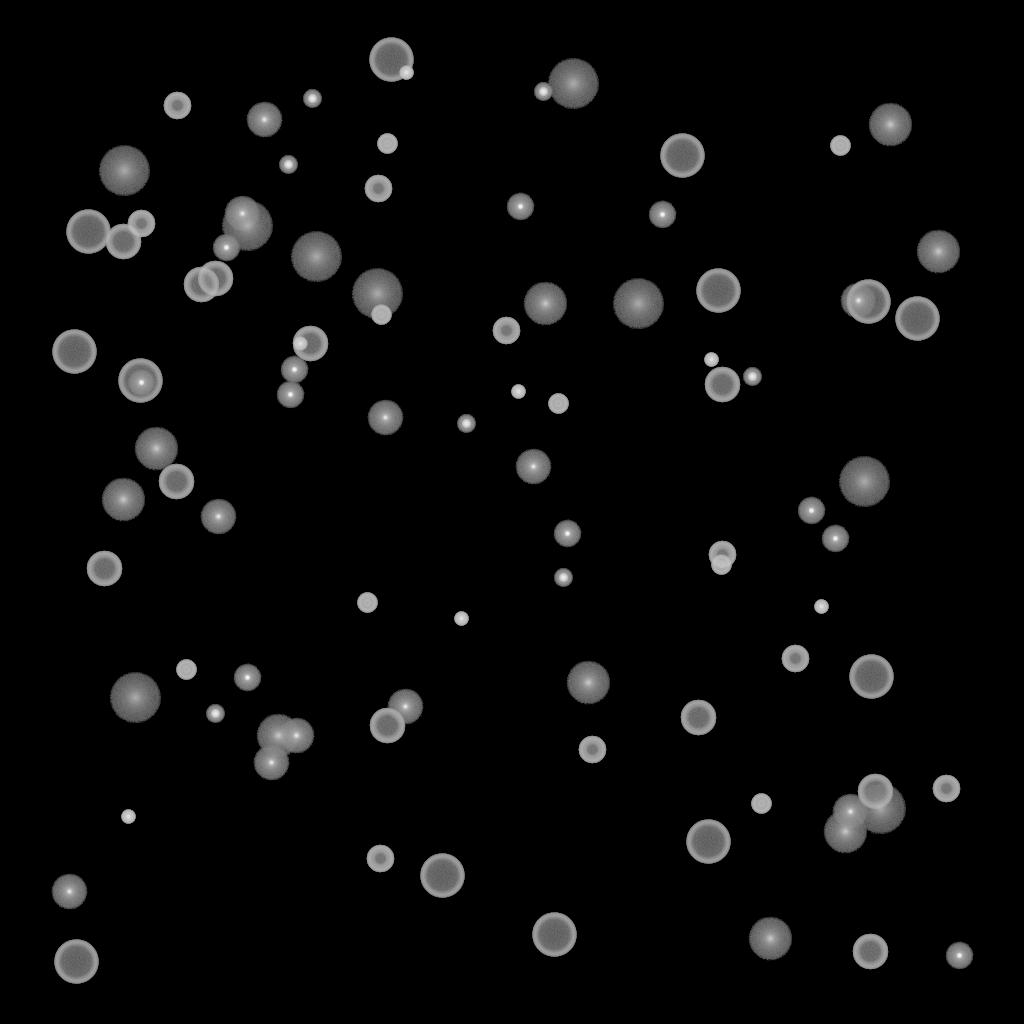depth:-10: (280, 356, 308, 384), (553, 520, 581, 548), (276, 381, 304, 409), (127, 369, 155, 397), (648, 201, 676, 229), (797, 497, 825, 525), (233, 664, 261, 692), (212, 234, 240, 262), (821, 525, 849, 553), (945, 942, 973, 970), (506, 193, 534, 221)
depth:-20: (457, 415, 475, 433), (534, 83, 552, 101), (743, 368, 761, 386), (279, 156, 297, 174), (206, 705, 224, 723), (554, 569, 572, 587), (303, 90, 321, 108)
depth:-30: (399, 66, 413, 80), (704, 353, 718, 367), (454, 612, 468, 626), (293, 337, 307, 351), (814, 600, 828, 614), (121, 810, 135, 824), (511, 385, 525, 399)
depth:-40: (751, 794, 771, 814), (548, 394, 568, 414), (371, 305, 391, 325), (711, 555, 731, 575), (830, 136, 850, 156), (357, 593, 377, 613), (176, 660, 196, 680), (377, 134, 397, 154)
depth:-50: (492, 317, 520, 345), (578, 736, 606, 764), (127, 210, 155, 238), (781, 645, 809, 673), (708, 541, 736, 569), (932, 775, 960, 803), (163, 92, 191, 120), (364, 175, 392, 203), (366, 845, 394, 873)
depth:-60: (105, 224, 141, 260), (292, 326, 328, 362), (857, 774, 893, 810), (158, 464, 194, 500), (86, 551, 122, 587), (197, 261, 233, 297), (852, 934, 888, 970), (680, 700, 716, 736), (183, 267, 219, 303), (704, 367, 740, 403), (369, 708, 405, 744)
depth:-70: (54, 940, 98, 984), (532, 913, 576, 957), (849, 655, 893, 699), (846, 280, 890, 324), (895, 297, 939, 341), (686, 820, 730, 864), (420, 854, 464, 898), (369, 38, 413, 82), (66, 210, 110, 254), (52, 330, 96, 374), (660, 134, 704, 178), (118, 359, 162, 403), (696, 269, 740, 313)
depth:0: (200, 499, 236, 535), (278, 718, 314, 754), (515, 449, 551, 485), (253, 745, 289, 781), (246, 102, 282, 138), (832, 794, 868, 830), (224, 196, 260, 232), (840, 283, 876, 319), (367, 400, 403, 436), (387, 689, 423, 725), (51, 874, 87, 910)
depth:10: (101, 478, 145, 522), (868, 103, 912, 147), (823, 810, 867, 854), (566, 661, 610, 705), (916, 230, 960, 274), (134, 427, 178, 471), (523, 282, 567, 326), (748, 917, 792, 961), (256, 714, 300, 758)
depth:20: (221, 201, 273, 251), (109, 673, 161, 723), (854, 784, 906, 834), (838, 457, 890, 507), (290, 232, 342, 282), (612, 279, 664, 329), (547, 59, 599, 109), (351, 269, 403, 319), (98, 146, 150, 196)
